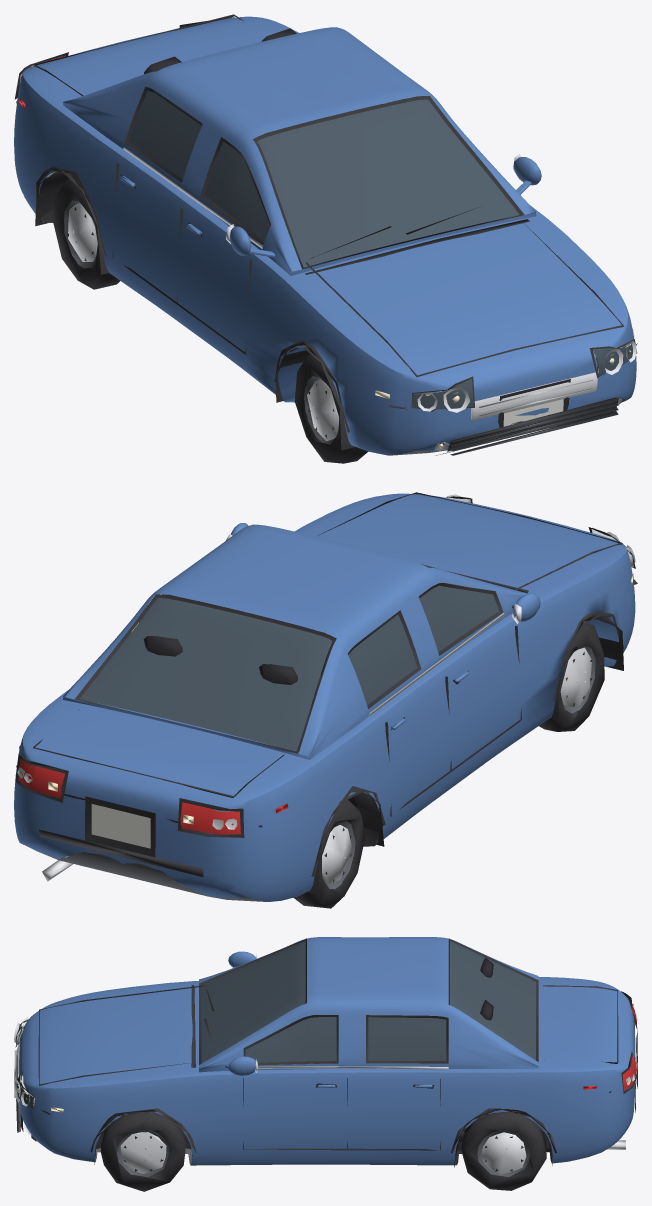
The model's file is CarV3_Compact_L1.fbx.
3 views of the same model, one above another, from view 1: azimuth 30°, elevation 25°; view 2: azimuth 150°, elevation 25°; view 3: azimuth 270°, elevation 25° (orthographic). The views are drawn at different scales.
Parts seen in each view (by area): view 1: CarV3_Compact.001; view 2: CarV3_Compact.001; view 3: CarV3_Compact.001.
Boxes of the visible parts, x1=… form: CarV3_Compact.001: x1=14, y1=14, x2=637, y2=463; CarV3_Compact.001: x1=14, y1=492, x2=637, y2=908; CarV3_Compact.001: x1=14, y1=937, x2=637, y2=1191.
Size of the model in its own units: 1.88 by 1.43 by 4.5.
